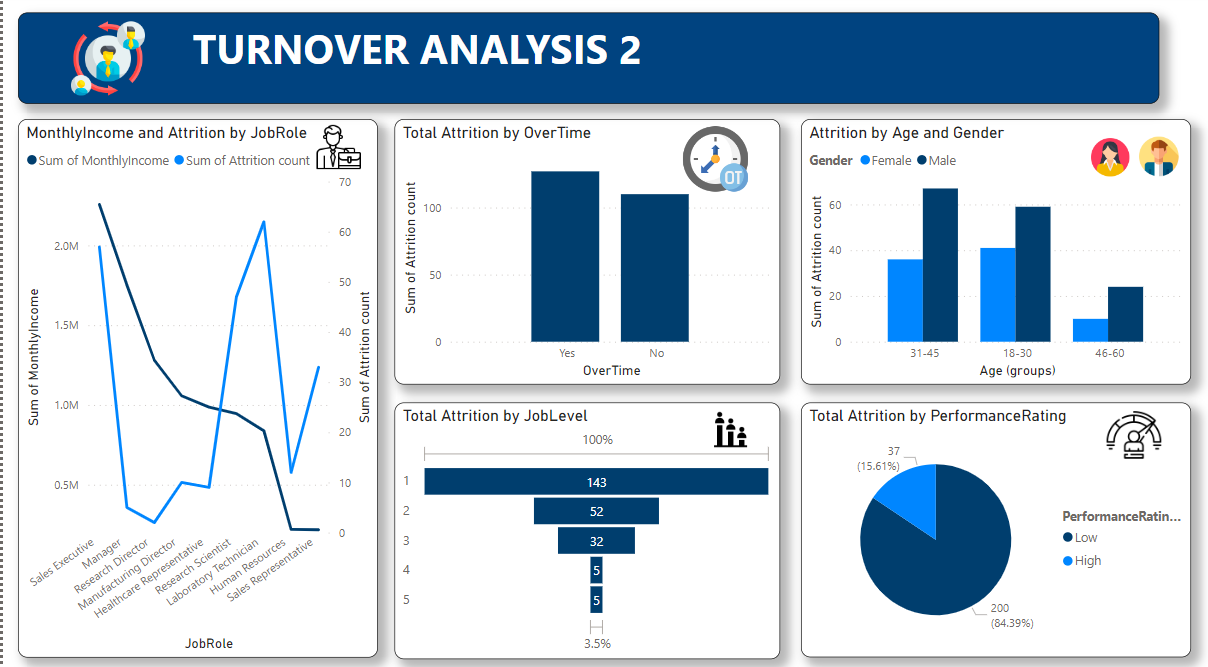

The page's visual inventory and layout, read from the dashboard file:
{"tool":"powerbi","page":{"name":"Page 3","canvas":[1280,720],"ordinal":2},"visuals":[{"type":"clusteredColumnChart","title":"Attrition by Age and Gender","fields":{"Category":["HR-Employee-Attrition.Age (groups)"],"Y":["Sum(HR-Employee-Attrition.Attrition count)"],"Series":["HR-Employee-Attrition.Gender"]},"box":[845.6,133.5,413.2,281.3],"z":0},{"type":"pieChart","title":"Total Attrition by PerformanceRating ","fields":{"Y":["Sum(HR-Employee-Attrition.Attrition count)"],"Category":["HR-Employee-Attrition.PerformanceRating (groups)"]},"box":[845.6,433.9,413.2,270.2],"z":1000},{"type":"lineChart","title":"MonthlyIncome and Attrition by JobRole","fields":{"Category":["HR-Employee-Attrition.JobRole"],"Y":["Sum(HR-Employee-Attrition.MonthlyIncome)"],"Y2":["Sum(HR-Employee-Attrition.Attrition count)"]},"box":[15.9,133.5,381.5,570.6],"z":2000},{"type":"columnChart","title":"Total Attrition by OverTime","fields":{"Category":["HR-Employee-Attrition.OverTime"],"Y":["Sum(HR-Employee-Attrition.Attrition count)"]},"box":[414.8,133.5,408.5,281.3],"z":3000},{"type":"textbox","box":[15.9,20.7,1209.5,97],"z":4000},{"type":"image","box":[15.9,20.7,190.7,97],"z":5000},{"type":"image","box":[686.6,133.5,136.7,84.2],"z":6000},{"type":"image","box":[1147.5,143,50.9,62],"z":7000},{"type":"image","box":[1198.4,133.5,52.5,79.5],"z":8000},{"type":"image","box":[1138,433.9,120.8,68.3],"z":9000},{"type":"image","box":[314.7,133.5,82.6,58.8],"z":10000},{"type":"funnel","title":"Total Attrition by JobLevel","fields":{"Y":["Sum(HR-Employee-Attrition.Attrition count)"],"Category":["HR-Employee-Attrition.JobLevel"]},"box":[414.8,433.9,408.5,271.8],"z":11000},{"type":"image","box":[718.4,433.9,104.9,57.2],"z":12000}]}

Visuals, with their boxes in screenshot pixels (x1, y1, x2, y2), scaled from the page's 1280x720 canvas onto the 1208x667 screenshot:
"Attrition by Age and Gender" clusteredColumnChart: 798:124:1188:384
"Total Attrition by PerformanceRating " pieChart: 798:402:1188:652
"MonthlyIncome and Attrition by JobRole" lineChart: 15:124:375:652
"Total Attrition by OverTime" columnChart: 391:124:777:384
textbox: 15:19:1156:109
image: 15:19:195:109
image: 648:124:777:202
image: 1083:132:1131:190
image: 1131:124:1181:197
image: 1074:402:1188:465
image: 297:124:375:178
"Total Attrition by JobLevel" funnel: 391:402:777:654
image: 678:402:777:455
